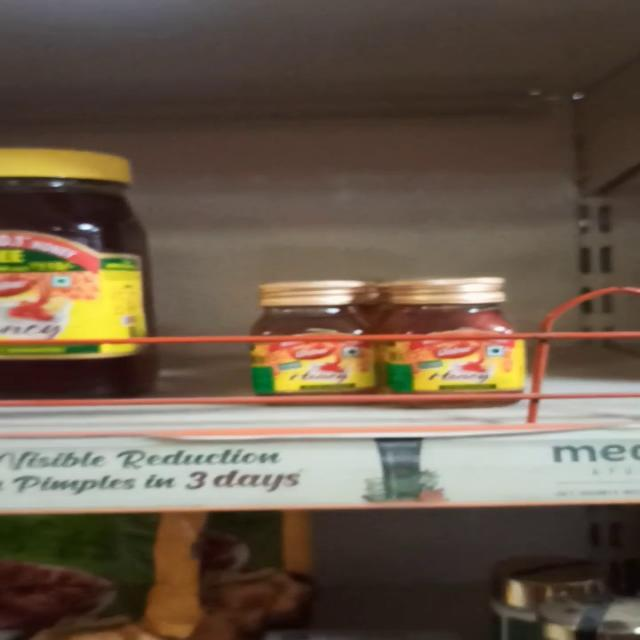Dabur Honey: (384, 272, 540, 397), (256, 284, 384, 400)
